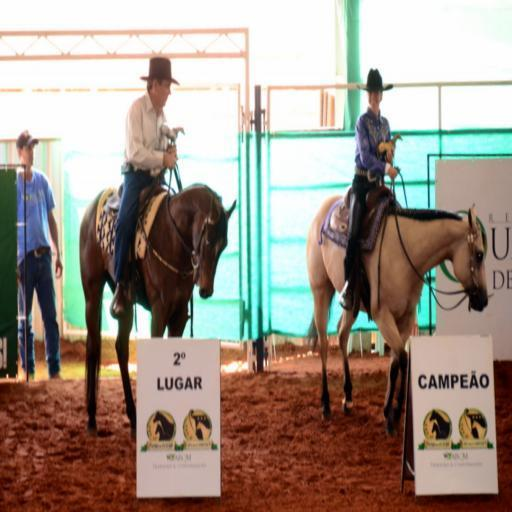horse: (305, 194, 491, 438), (77, 184, 237, 440), (426, 406, 451, 438), (152, 408, 173, 436), (428, 422, 440, 440), (154, 427, 165, 440)
